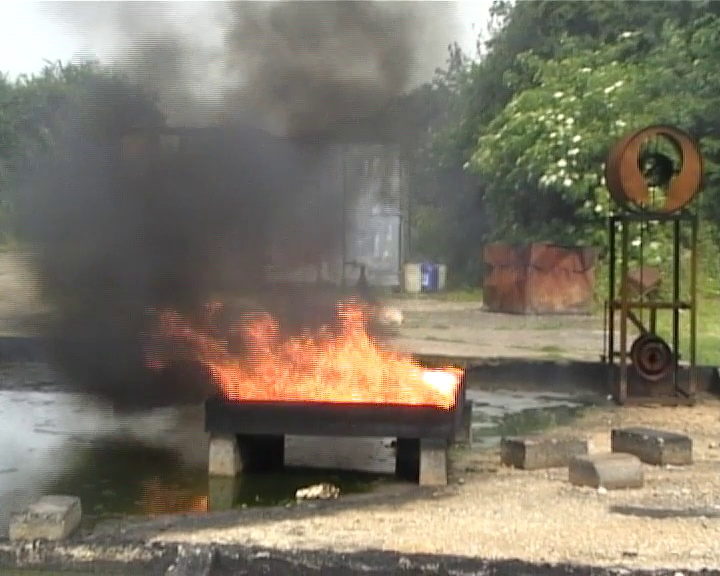fire: (205, 300, 461, 406)
